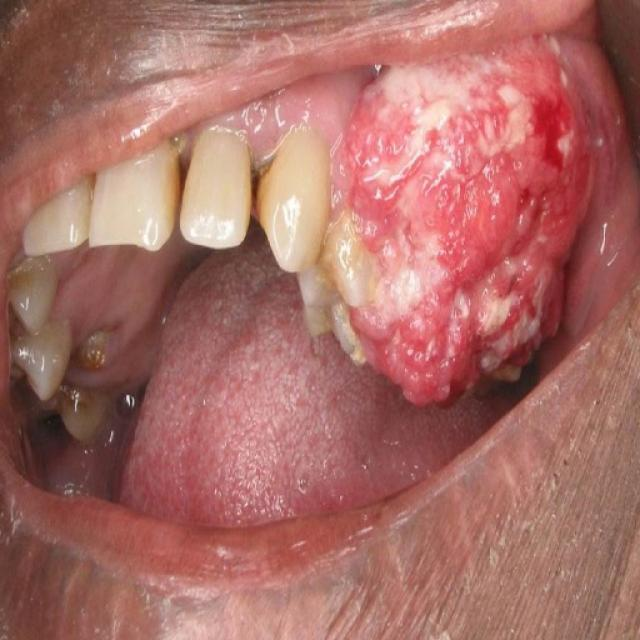cancer-detection: (328, 24, 596, 410)
processing_area: (113, 16, 639, 524)
